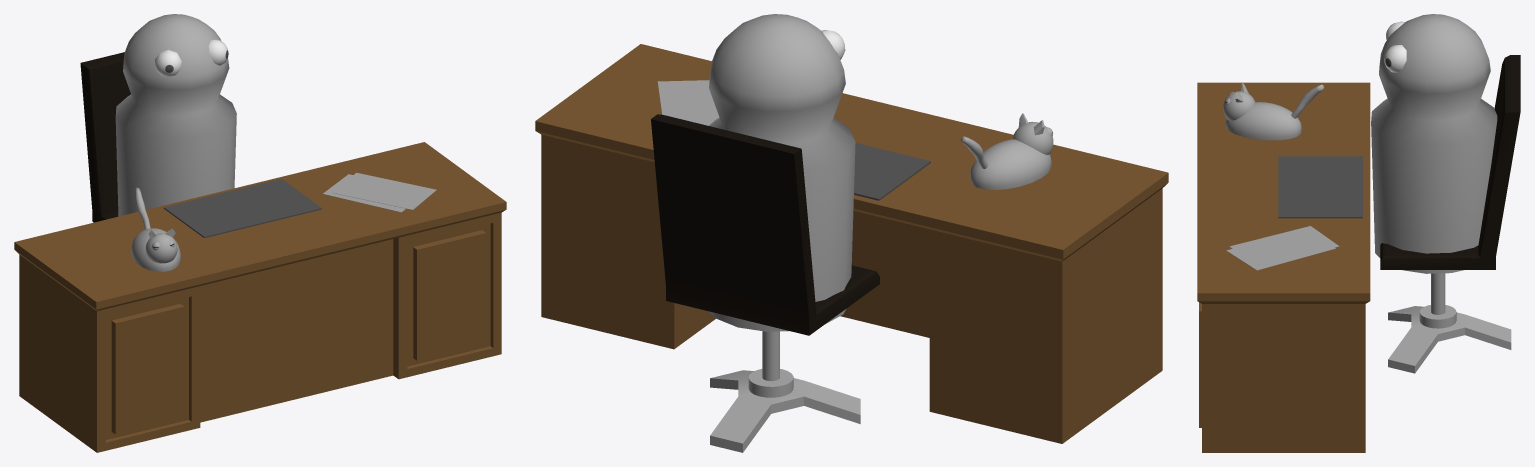
Rendered from silverFangDesk.fbx.
The picture shows the model from 3 angles, left to right: view 1: azimuth 30°, elevation 25°; view 2: azimuth 150°, elevation 25°; view 3: azimuth 270°, elevation 25°; orthographic projection. The views are drawn at different scales.
Visible parts, largest first — view 1: desk1, pSphere6, chair, cat; view 2: desk1, chair, pSphere6, cat; view 3: desk1, pSphere6, chair, cat.
Part boxes in pixels (left/top/right/bottom): desk1: left=14, top=142, right=506, bottom=452; pSphere6: left=115, top=14, right=236, bottom=216; chair: left=80, top=52, right=130, bottom=222; cat: left=131, top=187, right=180, bottom=271; desk1: left=535, top=44, right=1168, bottom=443; chair: left=651, top=114, right=879, bottom=452; pSphere6: left=709, top=14, right=855, bottom=331; cat: left=961, top=113, right=1053, bottom=189; desk1: left=1197, top=82, right=1370, bottom=452; pSphere6: left=1371, top=14, right=1497, bottom=273; chair: left=1380, top=55, right=1520, bottom=373; cat: left=1223, top=82, right=1324, bottom=140.
Size of the model in its own units: 2.61 by 1.87 by 1.69.
